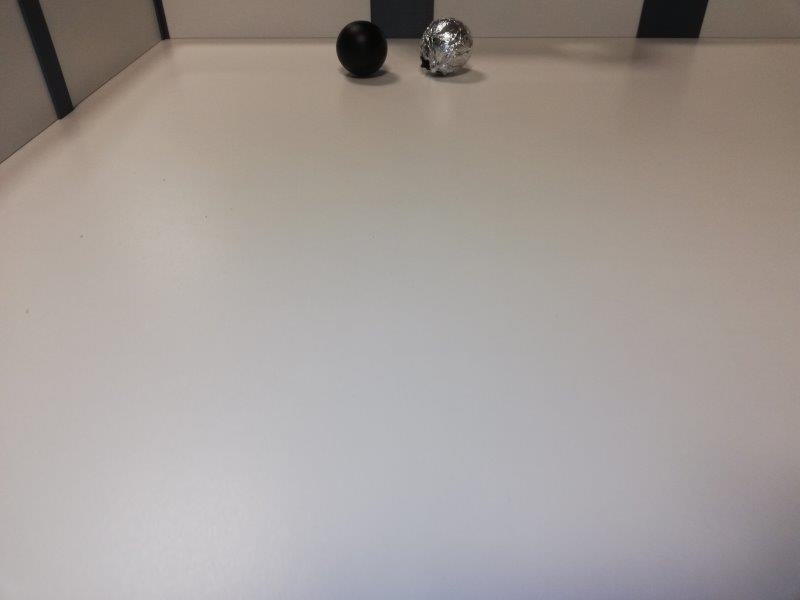bianca: (419, 17, 470, 73)
nera: (337, 19, 388, 77)
